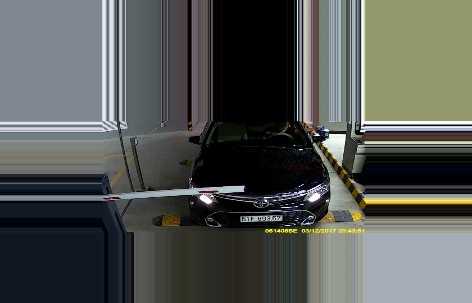plate: (238, 210, 283, 225)
